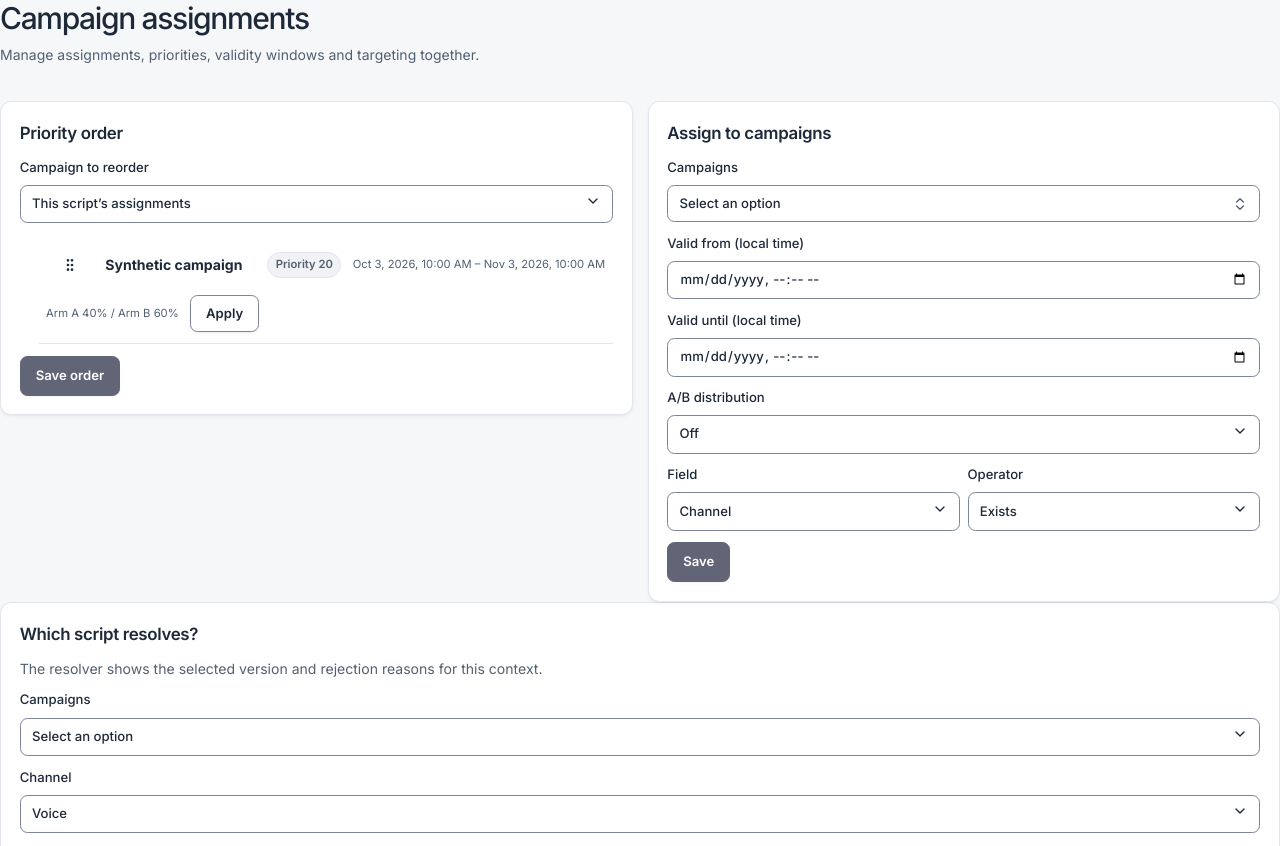
Test: explains why no script opens and why each assignment was rejected
Check: the text "Synthetic campaign" is shown, box 105,254 -> 256,275
Click the dropdown labelled "Select an option". click: (83, 736)
box: 20,718 -> 1260,756
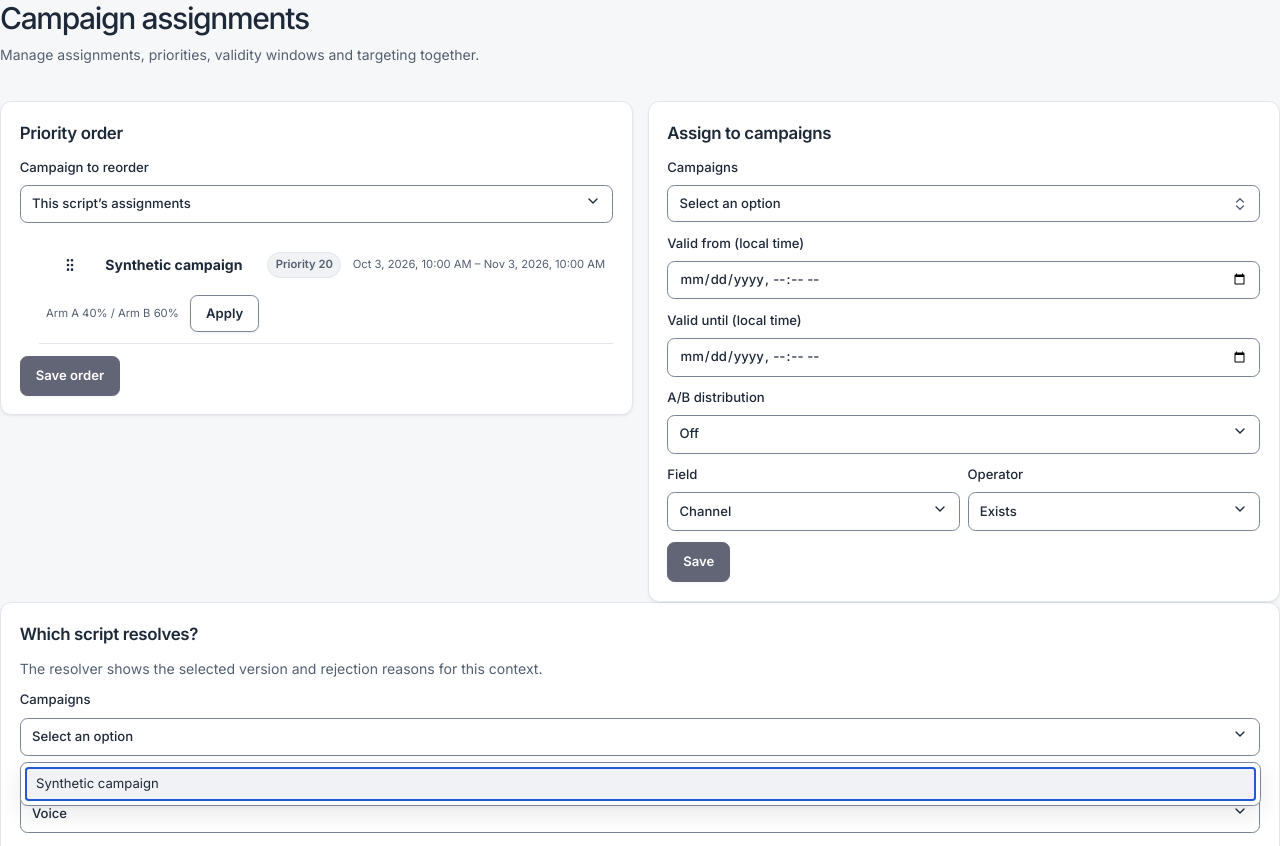
Click the option "Synthetic campaign". click: (97, 783)
box: 25,767 -> 1256,802
(page scrolled)
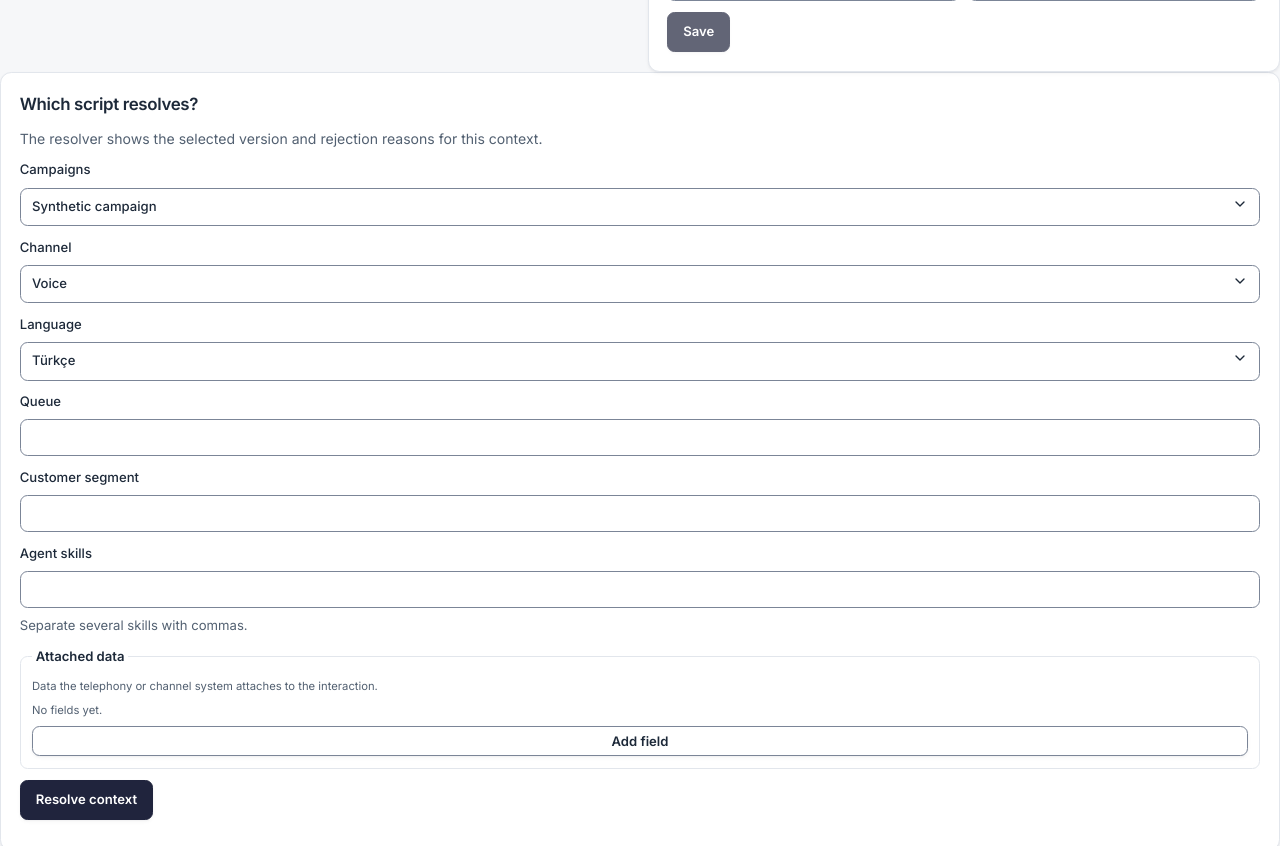
Click the button "Resolve context". click: (86, 800)
box: 20,780 -> 153,820
(page scrolled)
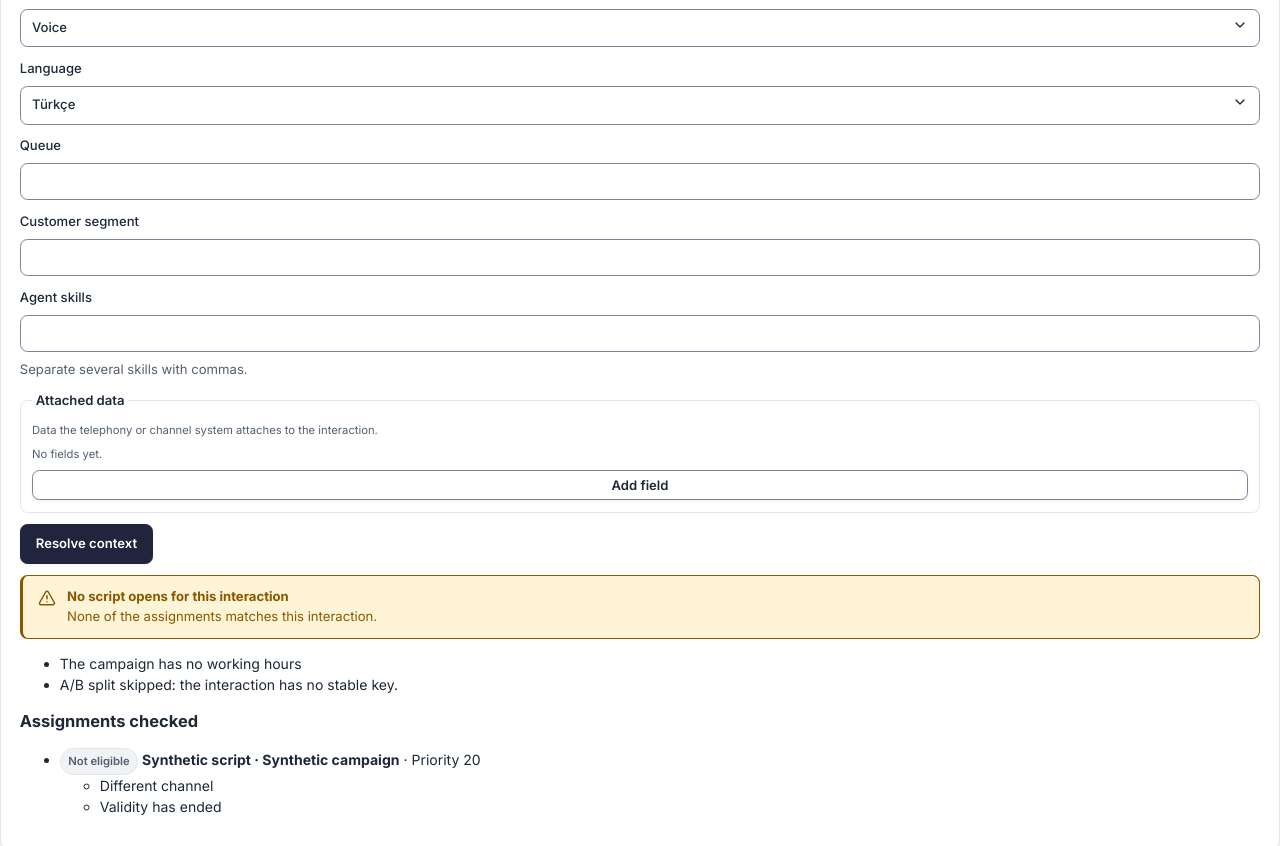
Check: the element named "Resolution result" shows "No script opens for this interaction", box 67,588 -> 289,604
Check: the element named "Resolution result" shows "None of the assignments matches this interaction.", box 67,608 -> 377,624
Check: the element named "Resolution result" shows "The campaign has no working hours", box 60,655 -> 302,672
